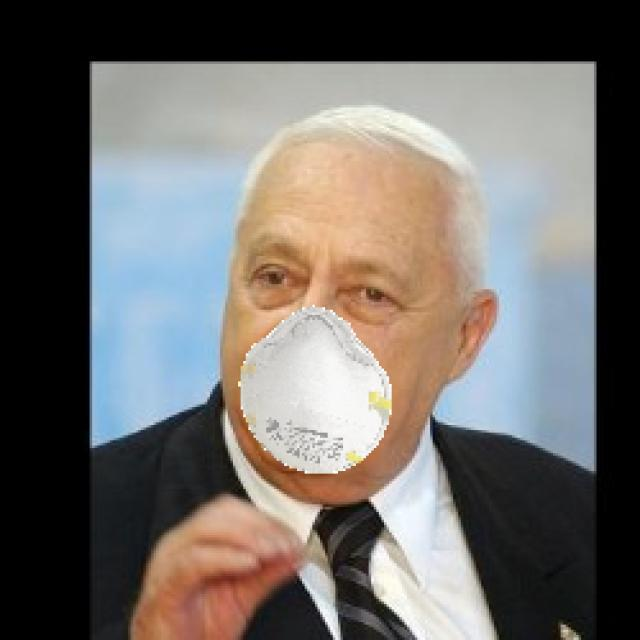n95: (220, 166, 450, 481)
